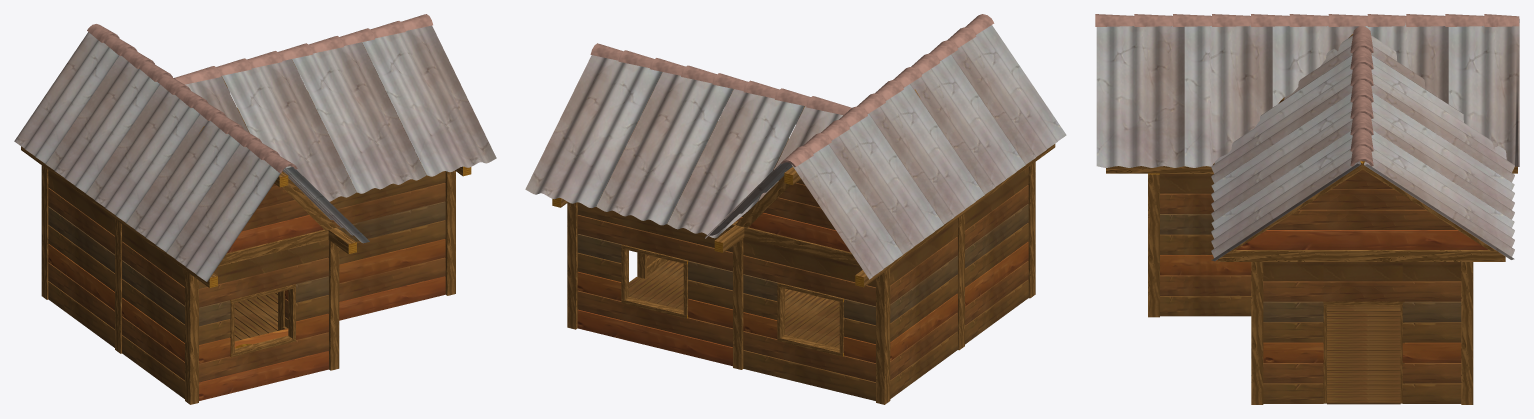
Rendered from house.dae.
3 renders of one model, left to right at view 1: azimuth 30°, elevation 25°; view 2: azimuth 150°, elevation 25°; view 3: azimuth 270°, elevation 25°, orthographic. The views are drawn at different scales.
Visible parts, largest first — view 1: house; view 2: house; view 3: house.
Part boxes in pixels (x1=…): house: x1=14, y1=14, x2=496, y2=404; house: x1=525, y1=14, x2=1066, y2=404; house: x1=1095, y1=14, x2=1519, y2=404.
Size of the model in its own units: 10.75 by 10.54 by 7.2.
1 material, 1 textured.
